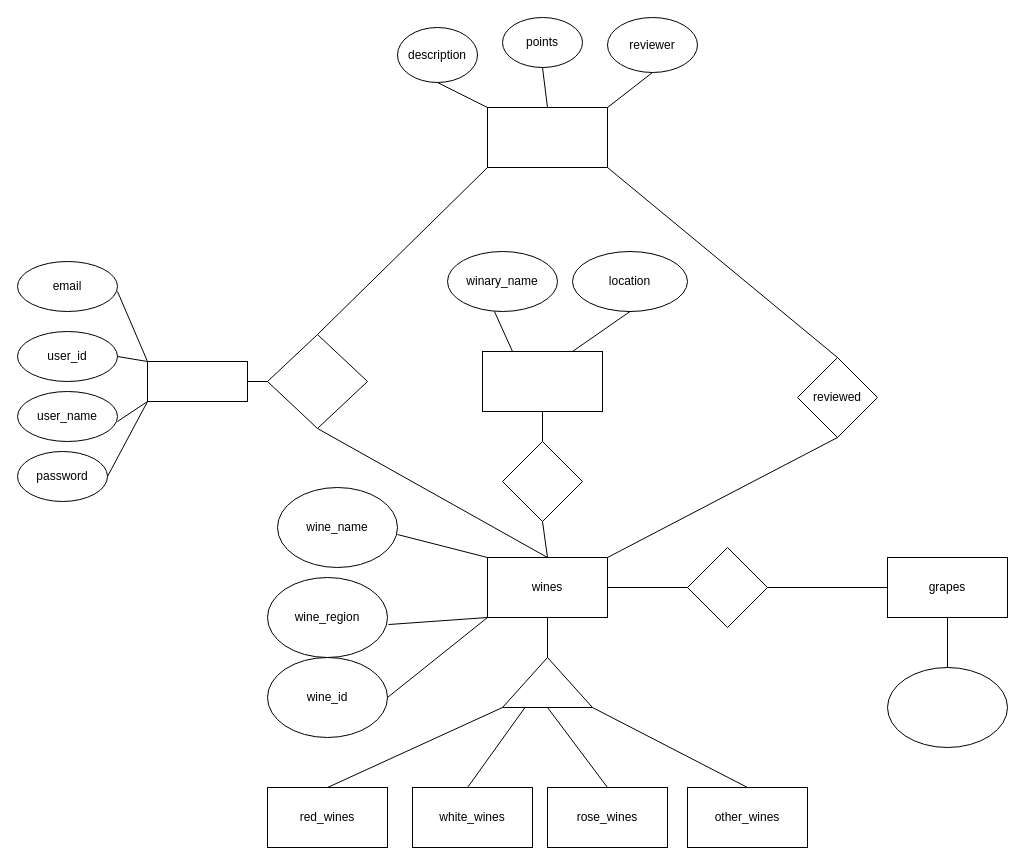
This 1025x865 diagram has some shape labels left out. Here are the shapes that lost their labels. From the top down, the centre of each, then its label:
[547,137]: reviews
[197,381]: users
[317,381]: search
[542,381]: wineries
[542,481]: makes
[727,587]: made_with
[547,682]: ISA
[947,707]: grape_variaty
